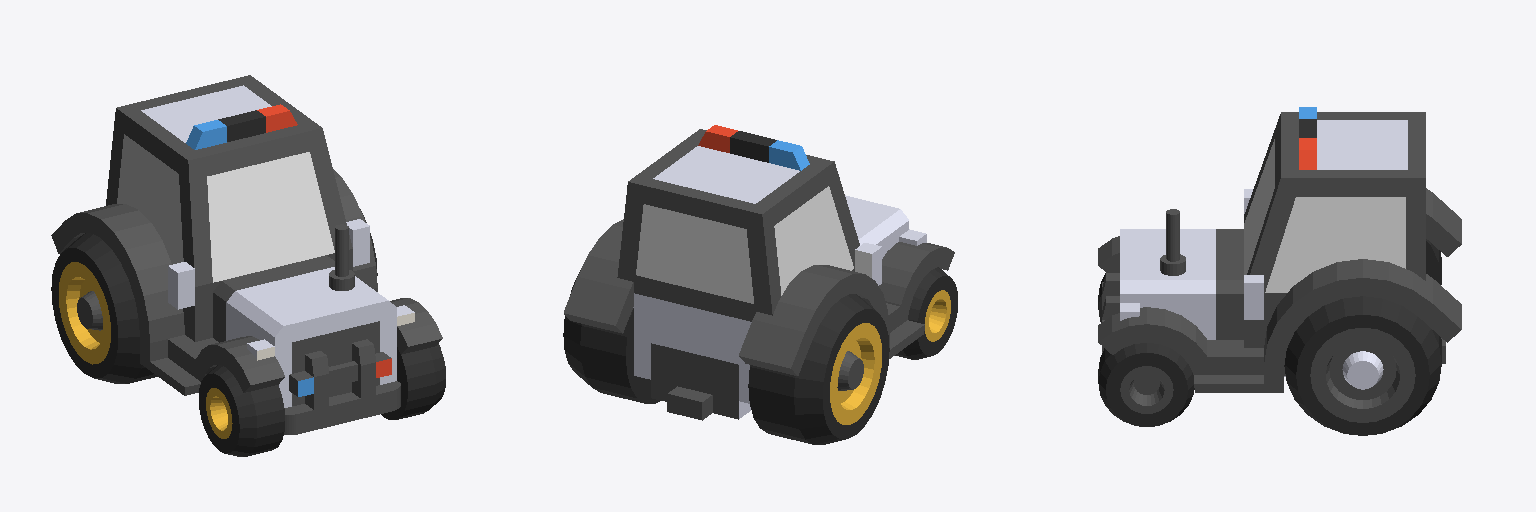
The model's file is tractorPolice.obj.
3 renders of one model, left to right at view 1: azimuth 30°, elevation 25°; view 2: azimuth 150°, elevation 25°; view 3: azimuth 270°, elevation 25°, orthographic.
Visible parts, largest first — view 1: body, skirts, wheel_backRight, grill, wheel_frontRight, wheel_frontLeft; view 2: body, skirts, wheel_backRight, wheel_backLeft, wheel_frontRight; view 3: body, skirts, wheel_backLeft, wheel_frontLeft, grill, wheel_backRight.
Part boxes in pixels (bbox=[...]): body: bbox=[106, 75, 414, 407]; skirts: bbox=[51, 169, 442, 395]; wheel_backRight: bbox=[51, 233, 157, 383]; grill: bbox=[284, 339, 400, 434]; wheel_frontRight: bbox=[199, 365, 284, 456]; wheel_frontLeft: bbox=[381, 344, 445, 419]; body: bbox=[617, 125, 926, 420]; skirts: bbox=[564, 219, 954, 375]; wheel_backRight: bbox=[748, 294, 889, 444]; wheel_backLeft: bbox=[563, 270, 660, 403]; wheel_frontRight: bbox=[895, 267, 957, 359]; body: bbox=[1120, 107, 1445, 376]; skirts: bbox=[1098, 188, 1461, 392]; wheel_backLeft: bbox=[1284, 296, 1441, 435]; wheel_frontLeft: bbox=[1098, 343, 1194, 426]; grill: bbox=[1102, 273, 1119, 352]; wheel_backRight: bbox=[1426, 239, 1441, 284].
Size of the model in its own units: 65.38 by 61.5 by 79.41.